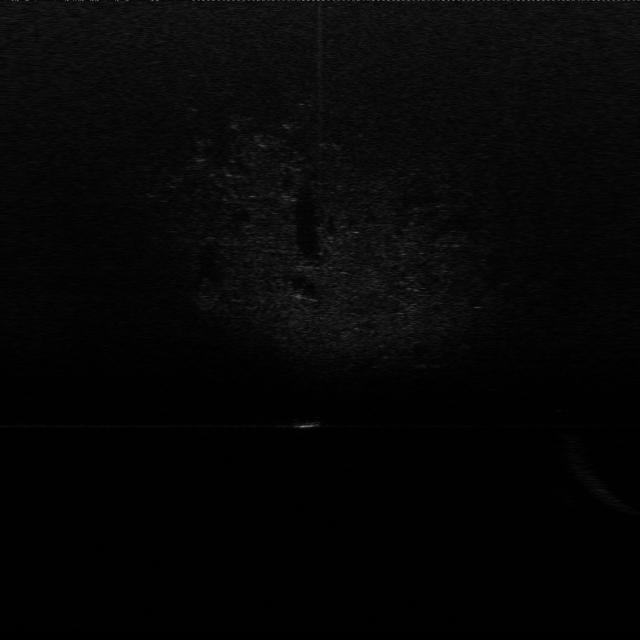square cage: (284, 409, 326, 431)
